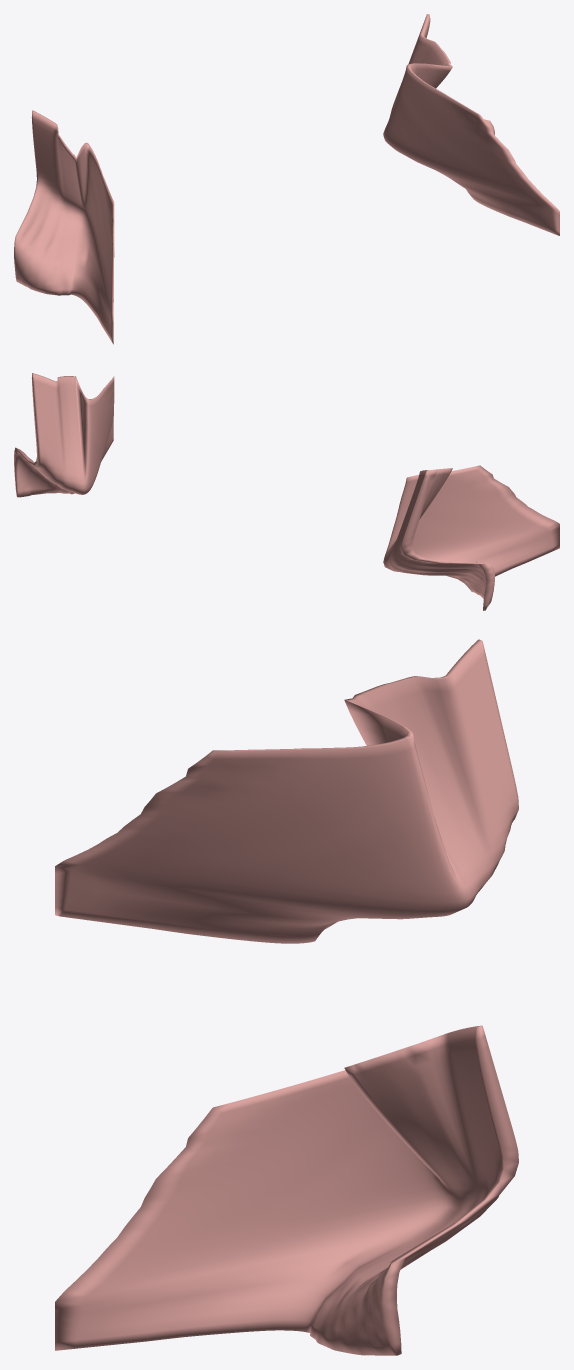
The model's file is buccinator_lod1.glb.
3 views of the same model, one above another, from view 1: azimuth 30°, elevation 25°; view 2: azimuth 150°, elevation 25°; view 3: azimuth 270°, elevation 25° (orthographic). The views are drawn at different scales.
Visible parts, largest first — view 1: buccinator_R_lod1, buccinator_L_lod1; view 2: buccinator_R_lod1, buccinator_L_lod1; view 3: buccinator_L_lod1, buccinator_R_lod1.
Boxes of the visible parts, x1,y1,x2,y2 form: buccinator_R_lod1: (14,110,114,344); buccinator_L_lod1: (383,14,559,235); buccinator_R_lod1: (383,465,559,610); buccinator_L_lod1: (14,373,114,497); buccinator_L_lod1: (55,1025,518,1355); buccinator_R_lod1: (55,639,518,943).
Size of the model in its own units: 0.0789 by 0.0238 by 0.033.
